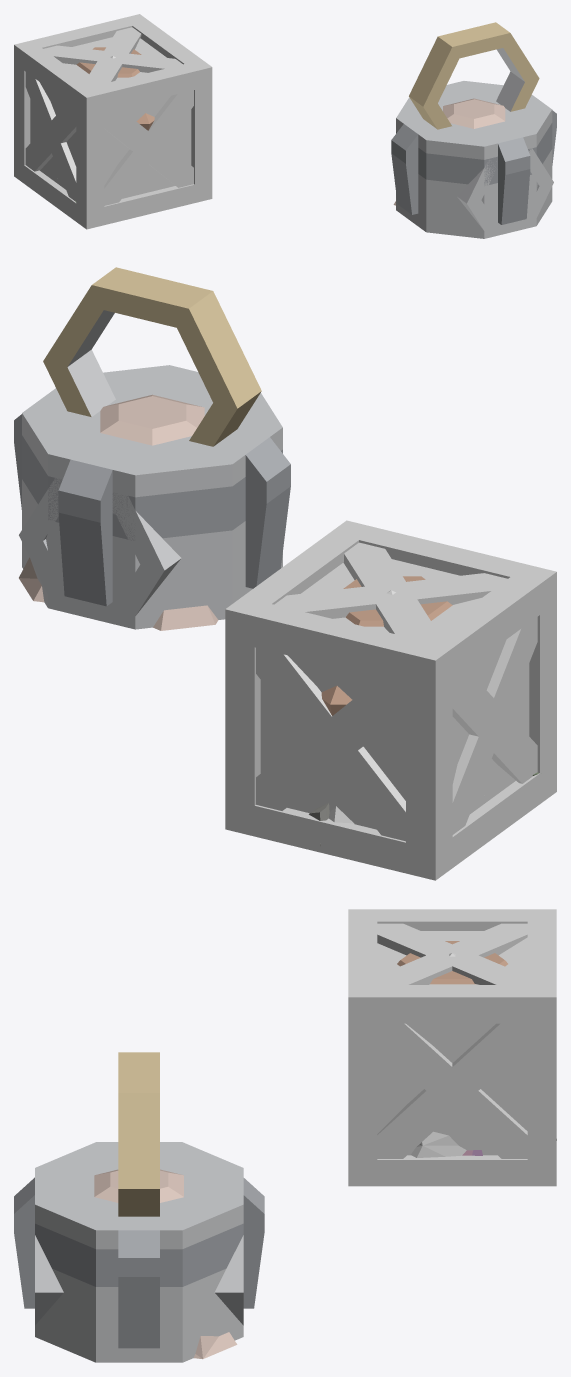
The model's file is props_terrain.glb.
3 views of the same model, one above another, from view 1: azimuth 30°, elevation 25°; view 2: azimuth 150°, elevation 25°; view 3: azimuth 270°, elevation 25° (orthographic). The views are drawn at different scales.
Parts seen in each view (by area): view 1: pp_crate, rocket_finsA, pipe_ringSupport, pipe_straight, meteor_detailed, pp_mushroom; view 2: pp_crate, rocket_finsA, pipe_ringSupport, pipe_straight, meteor_detailed, pp_mushroom, rock_largeB; view 3: pp_crate, rocket_finsA, pipe_ringSupport, pipe_straight, meteor_detailed, pp_rocklarge, pp_mushroom, rock_crystalsLargeB.
Boxes of the visible parts, box(x1,y1,x2,y2) form: pp_crate: box(14, 14, 212, 229); rocket_finsA: box(391, 81, 556, 238); pipe_ringSupport: box(409, 22, 539, 129); pipe_straight: box(457, 148, 553, 237); meteor_detailed: box(443, 98, 505, 128); pp_mushroom: box(76, 47, 154, 130); pp_crate: box(225, 520, 556, 880); rocket_finsA: box(14, 365, 290, 629); pipe_ringSupport: box(43, 267, 261, 446); pipe_straight: box(19, 478, 181, 627); meteor_detailed: box(100, 394, 204, 445); pp_mushroom: box(321, 576, 452, 715); rock_largeB: box(153, 605, 218, 630); pp_crate: box(348, 909, 556, 1186); rocket_finsA: box(14, 1142, 264, 1362); pipe_ringSupport: box(118, 1052, 159, 1216); pipe_straight: box(35, 1235, 243, 1325); meteor_detailed: box(94, 1169, 183, 1202); pp_rocklarge: box(410, 1131, 466, 1157); pp_mushroom: box(397, 941, 507, 984); rock_crystalsLargeB: box(193, 1332, 237, 1359).
Size of the model in its own units: 3.1 by 1.3 by 2.6.
